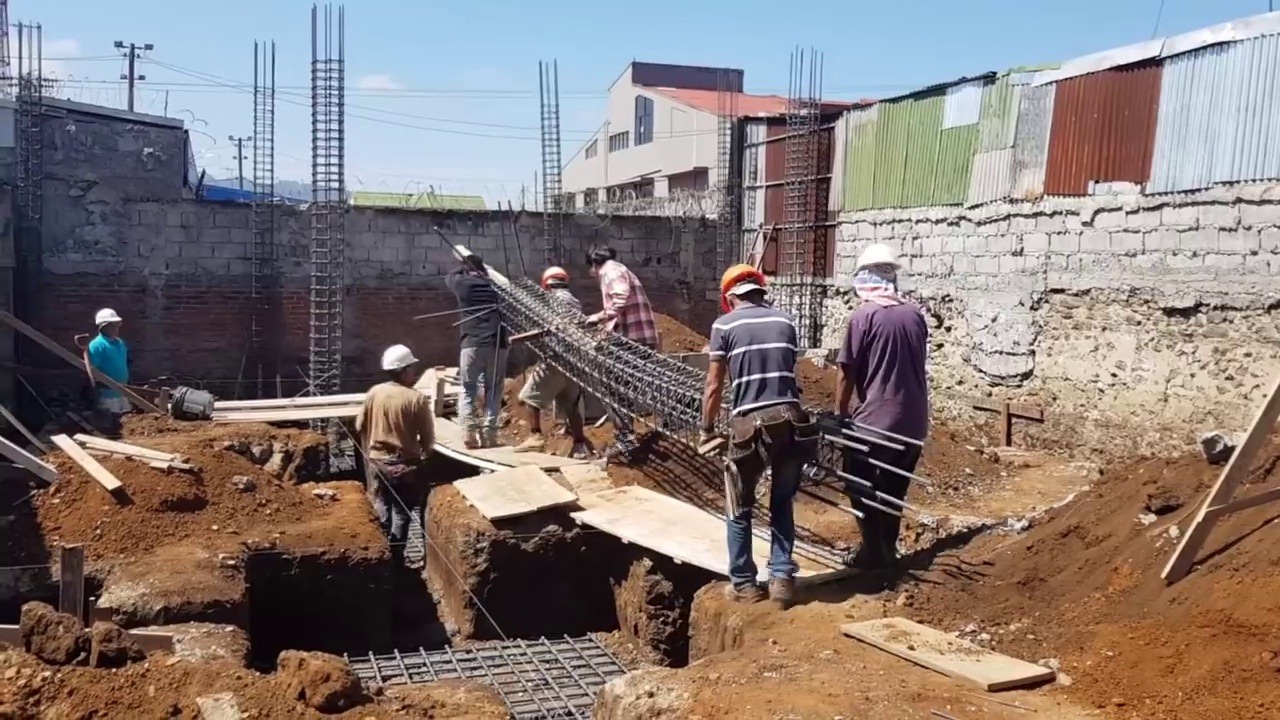helmet: (722, 265, 767, 310), (855, 243, 904, 273), (380, 343, 422, 373), (95, 308, 121, 327), (545, 265, 568, 282)
helmet-off: (594, 248, 624, 277), (462, 255, 484, 279)
helmet-on: (856, 243, 904, 303), (721, 264, 773, 317), (381, 343, 421, 387), (540, 264, 570, 297), (95, 309, 122, 345)
person: (828, 243, 929, 593), (705, 265, 807, 602), (357, 344, 441, 567), (529, 253, 600, 472), (588, 235, 660, 436), (450, 255, 515, 447), (77, 307, 127, 405)
